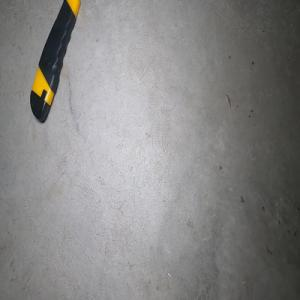Cutter: (29, 0, 81, 124)
